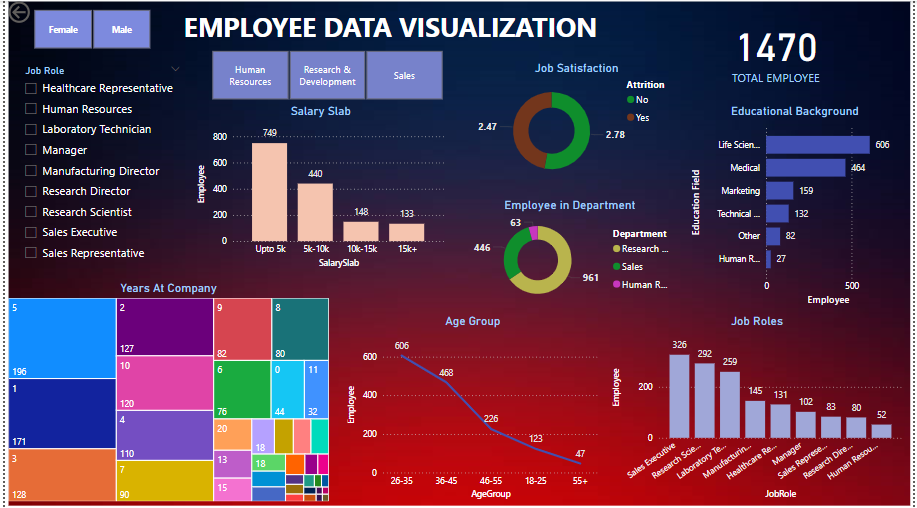

Layout of this report page (visuals, bound fields, positions):
{"tool":"powerbi","page":{"name":"Page 1","canvas":[1280,720],"ordinal":0},"visuals":[{"type":"image","box":[0,0,1280.2,720],"z":0},{"type":"lineChart","title":"Age Group","fields":{"Y":["CountNonNull(HR_Analytics.Age)"],"Category":["HR_Analytics.AgeGroup"]},"box":[478.1,445,362.9,266.4],"z":1000},{"type":"clusteredColumnChart","title":"Salary Slab","fields":{"Category":["HR_Analytics.SalarySlab"],"Y":["CountNonNull(HR_Analytics.SalarySlab)"]},"box":[266.4,149.8,357.1,236.2],"z":2000},{"type":"treemap","title":"Years At Company ","fields":{"Group":["HR_Analytics.YearsAtCompany"],"Values":["CountNonNull(HR_Analytics.YearsAtCompany)"]},"box":[0,398.9,460.8,315.4],"z":3000},{"type":"donutChart","title":"Employee in Department","fields":{"Y":["CountNonNull(HR_Analytics.Department)"],"Category":["HR_Analytics.Department"]},"box":[639.4,282.2,312.5,155.5],"z":4000},{"type":"clusteredBarChart","title":"Educational Background","fields":{"Category":["HR_Analytics.EducationField"],"Y":["CountNonNull(HR_Analytics.EducationField)"]},"box":[961.9,149.8,301,288],"z":5000},{"type":"donutChart","title":"Job Satisfaction","fields":{"Category":["HR_Analytics.Attrition"],"Y":["Avg(HR_Analytics.JobSatisfaction)"]},"box":[659.5,89.3,292.3,177.1],"z":6000},{"type":"columnChart","title":"Job Roles","fields":{"Category":["HR_Analytics.JobRole"],"Y":["CountNonNull(HR_Analytics.JobRole)"]},"box":[851,445,417.6,266.4],"z":7000},{"type":"slicer","fields":{"Values":["HR_Analytics.Gender"]},"box":[15.8,10.1,213.1,67.7],"z":8000},{"type":"slicer","fields":{"Values":["HR_Analytics.Department"]},"box":[266.4,54.7,374.4,82.1],"z":9000},{"type":"slicer","fields":{"Values":["HR_Analytics.JobRole"]},"box":[15.8,89.3,243.4,296.6],"z":10000},{"type":"textbox","box":[246.2,0,604.8,73.4],"z":11000},{"type":"actionButton","box":[0,0,100,40],"z":12000},{"type":"card","fields":{"Values":["CountNonNull(HR_Analytics.EmpID)"]},"box":[961.9,10.1,247.7,126.7],"z":13000}]}

Visuals, with their boxes in screenshot pixels (x1, y1, x2, y2), scaled from the page's 1280x720 canvas onto the 917x508 screenshot:
image: [left=0, top=0, right=916, bottom=507]
"Age Group" lineChart: [left=343, top=314, right=602, bottom=502]
"Salary Slab" clusteredColumnChart: [left=191, top=106, right=447, bottom=272]
"Years At Company " treemap: [left=0, top=281, right=330, bottom=504]
"Employee in Department" donutChart: [left=458, top=199, right=682, bottom=309]
"Educational Background" clusteredBarChart: [left=689, top=106, right=905, bottom=309]
"Job Satisfaction" donutChart: [left=472, top=63, right=682, bottom=188]
"Job Roles" columnChart: [left=610, top=314, right=909, bottom=502]
slicer - HR_Analytics.Gender: [left=11, top=7, right=164, bottom=55]
slicer - HR_Analytics.Department: [left=191, top=39, right=459, bottom=97]
slicer - HR_Analytics.JobRole: [left=11, top=63, right=186, bottom=272]
textbox: [left=176, top=0, right=610, bottom=52]
actionButton: [left=0, top=0, right=72, bottom=28]
card - CountNonNull(HR_Analytics.EmpID): [left=689, top=7, right=867, bottom=97]
